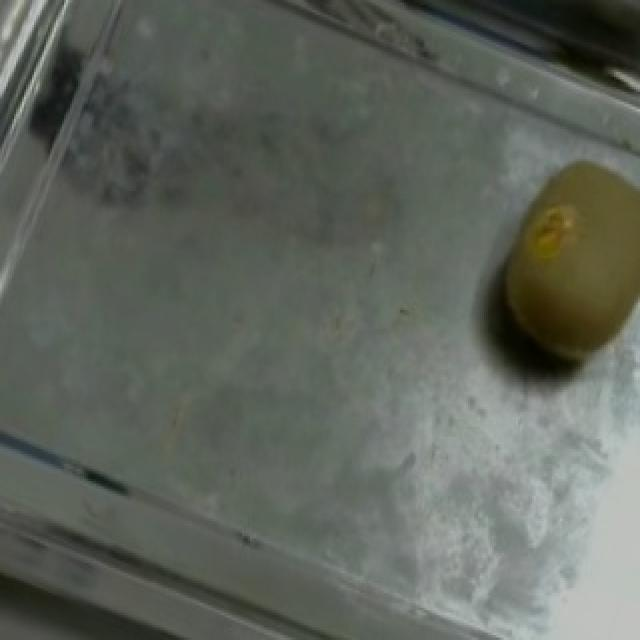Fruit: (456, 131, 640, 402)
